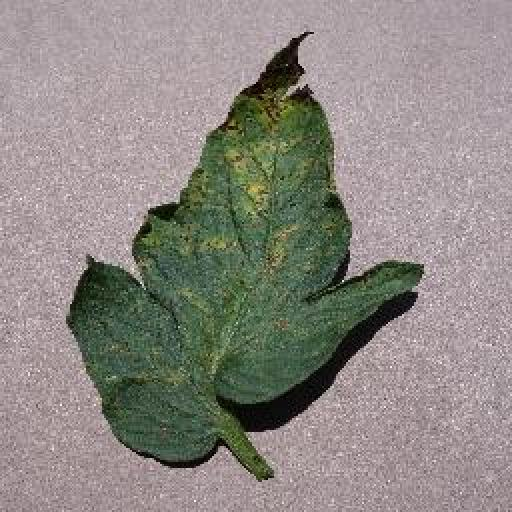Septoria: (67, 31, 430, 465)
